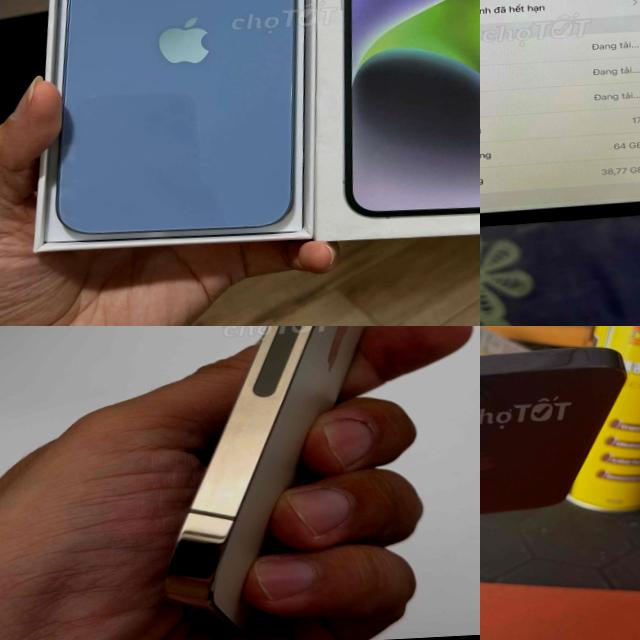gen_11: (480, 0, 640, 240)
gen_14: (37, 0, 310, 256), (165, 326, 364, 629), (480, 339, 639, 558)
